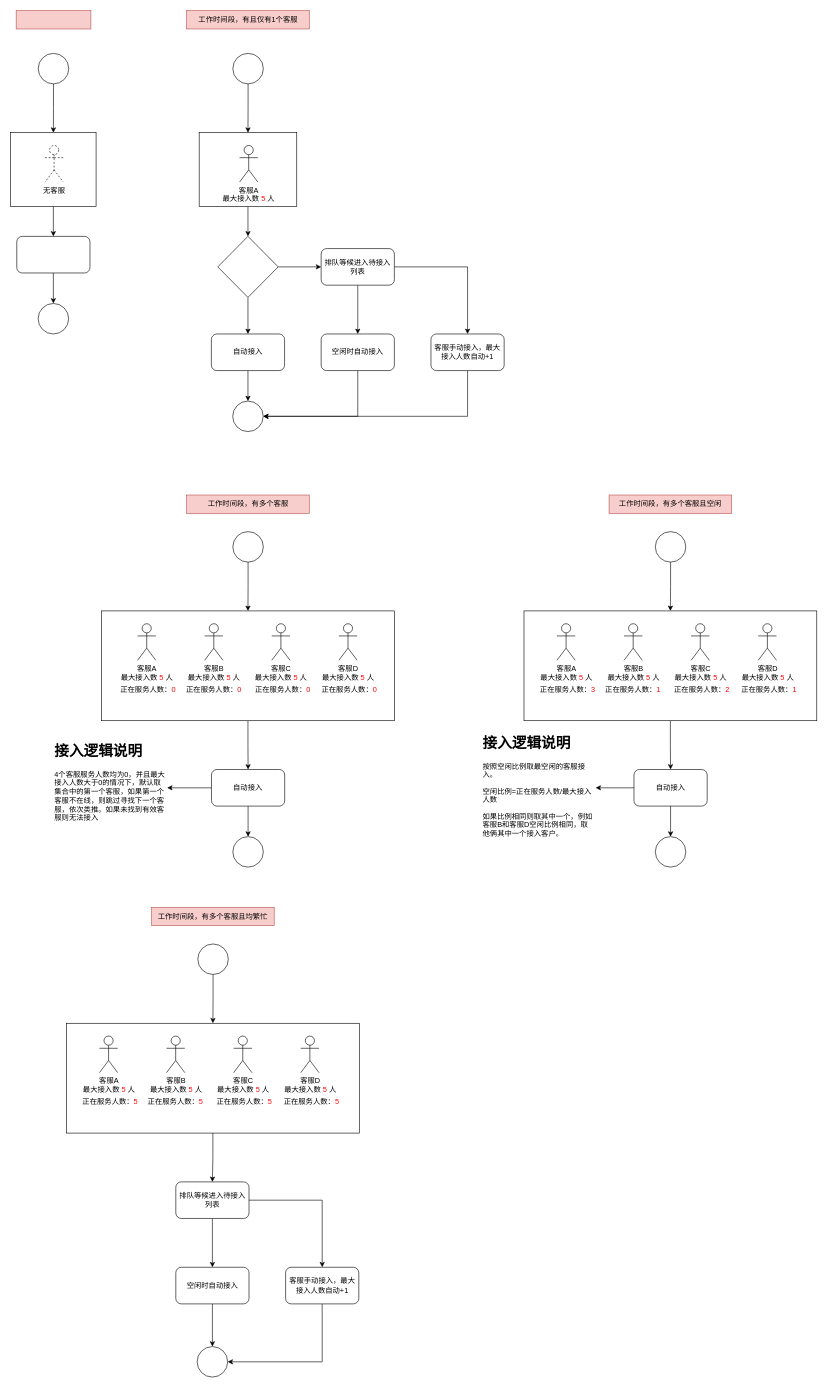
The diagram is 828 pixels wide and 1388 high, and some of its shapes have lost their labels. Here are the shapes that lost their labels. From the top down, the box of each, then its label:
(16, 10, 91, 29): 工作时间段，无客服
(16, 236, 90, 273): 请等待
(217, 236, 278, 297): 正在服务人数小于5人
